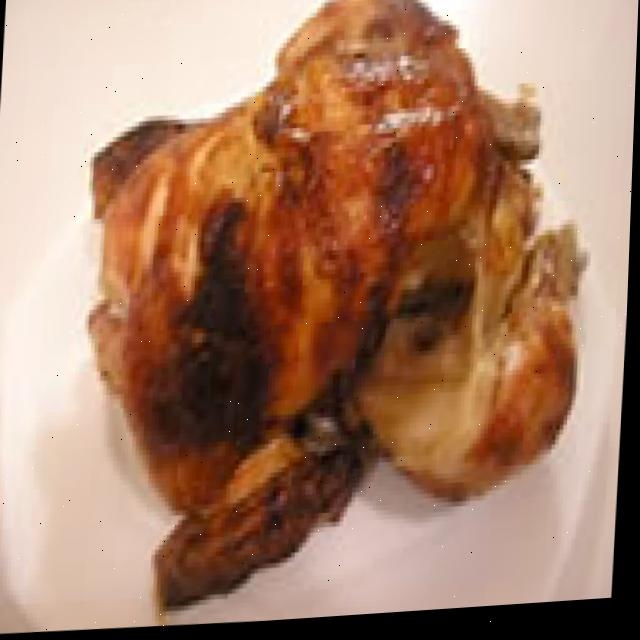鸡肉料理 含炸鸡: (58, 0, 595, 636)
